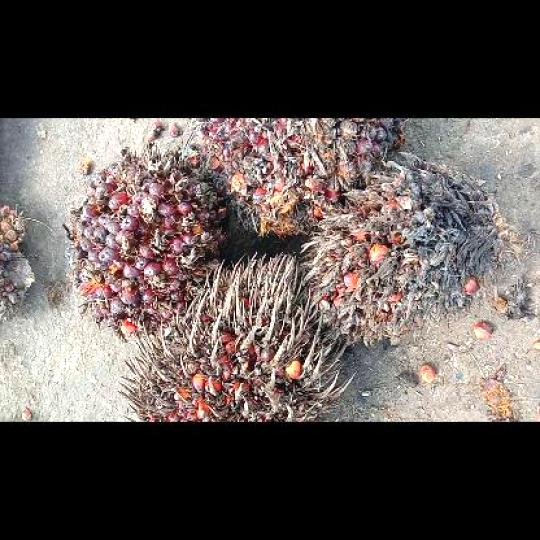masak: (65, 146, 234, 339), (196, 118, 404, 238)
terlalu masak: (301, 155, 517, 346), (120, 252, 355, 420)
